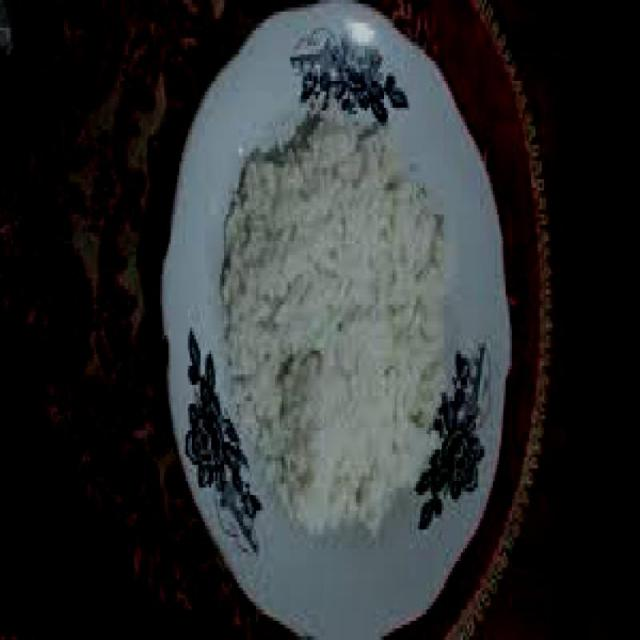rice: (223, 111, 446, 542)
